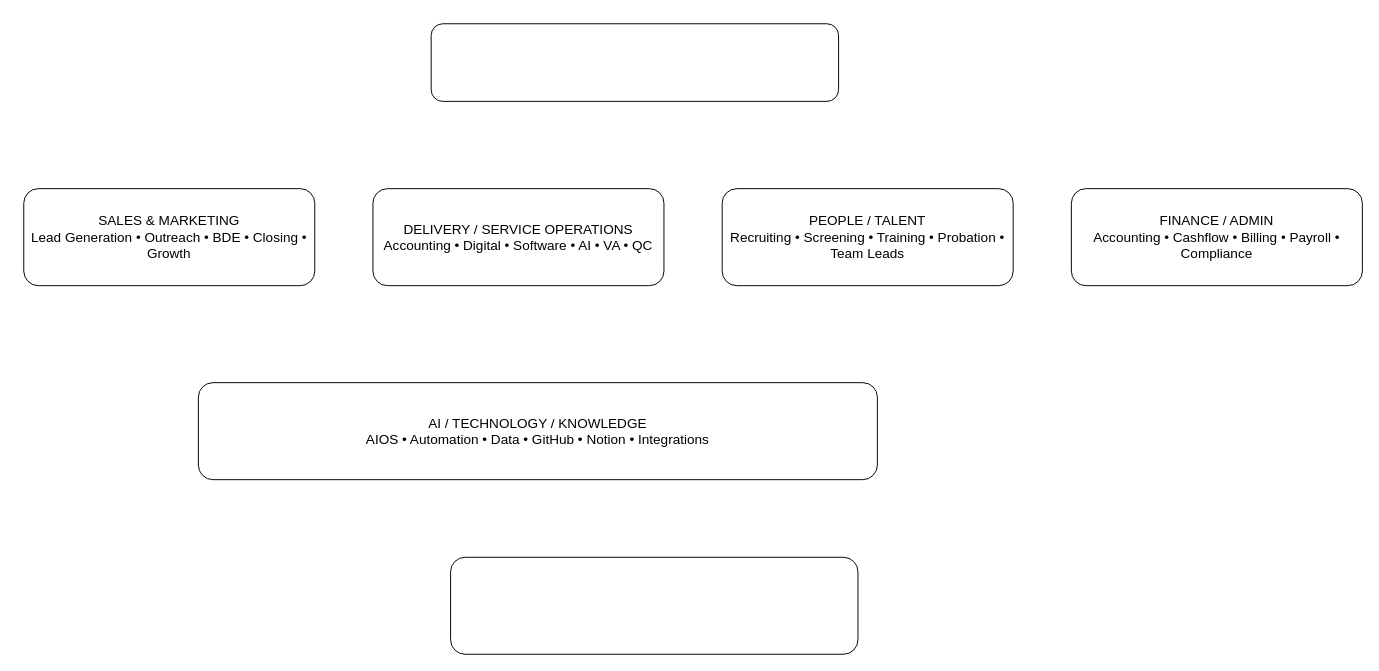
The diagram is 1379 pixels wide and 671 high, and some of its shapes have lost their labels. Here are the shapes that lost their labels. From the top down, the centre of each, then its label:
(x=634, y=62): OWNER / MANAGEMENT Vision • Strategy • Capital • Final Decisions
(x=654, y=605): GOVERNANCE / SUPPORT SOP • RACI • Approval • Escalation • Security • KPI Review
